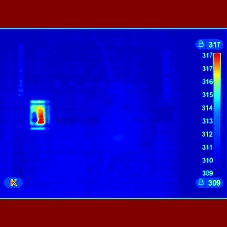High: (25, 99, 53, 135)
